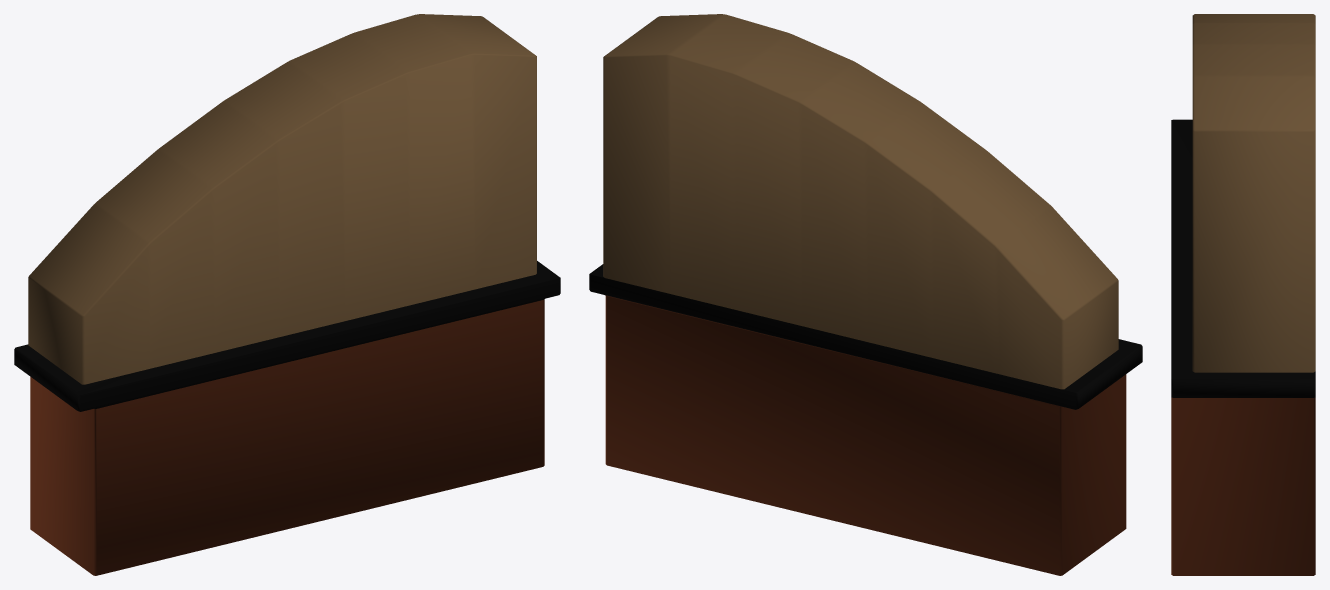
Rendered from Counter.fbx.
3 renders of one model, left to right at view 1: azimuth 30°, elevation 25°; view 2: azimuth 150°, elevation 25°; view 3: azimuth 270°, elevation 25°, orthographic. The views are drawn at different scales.
Visible parts, largest first — view 1: Plane; view 2: Plane; view 3: Plane.
Boxes of the visible parts, x1=… form: Plane: x1=14, y1=14, x2=560, y2=575; Plane: x1=589, y1=14, x2=1142, y2=575; Plane: x1=1171, y1=14, x2=1315, y2=575.
Bounding box in the file's own units: 3 × 2.5 × 0.7.
